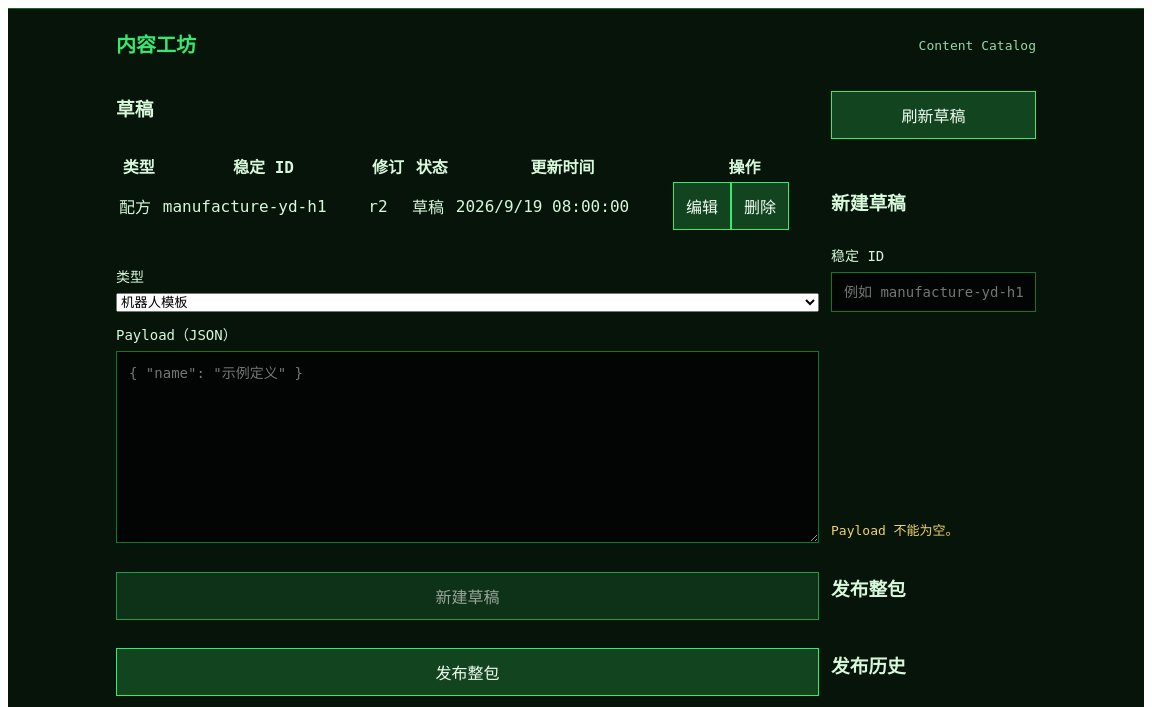
Test: ContentAdminPanel › deletes a draft with the DELETE method
This screenshot has width=1152, height=707.
Expected: the text "manufacture-yd-h1" is shown, [162,181,365,231]
Step 1. Click the button "删除" → (760, 206), box [731,182,789,230]
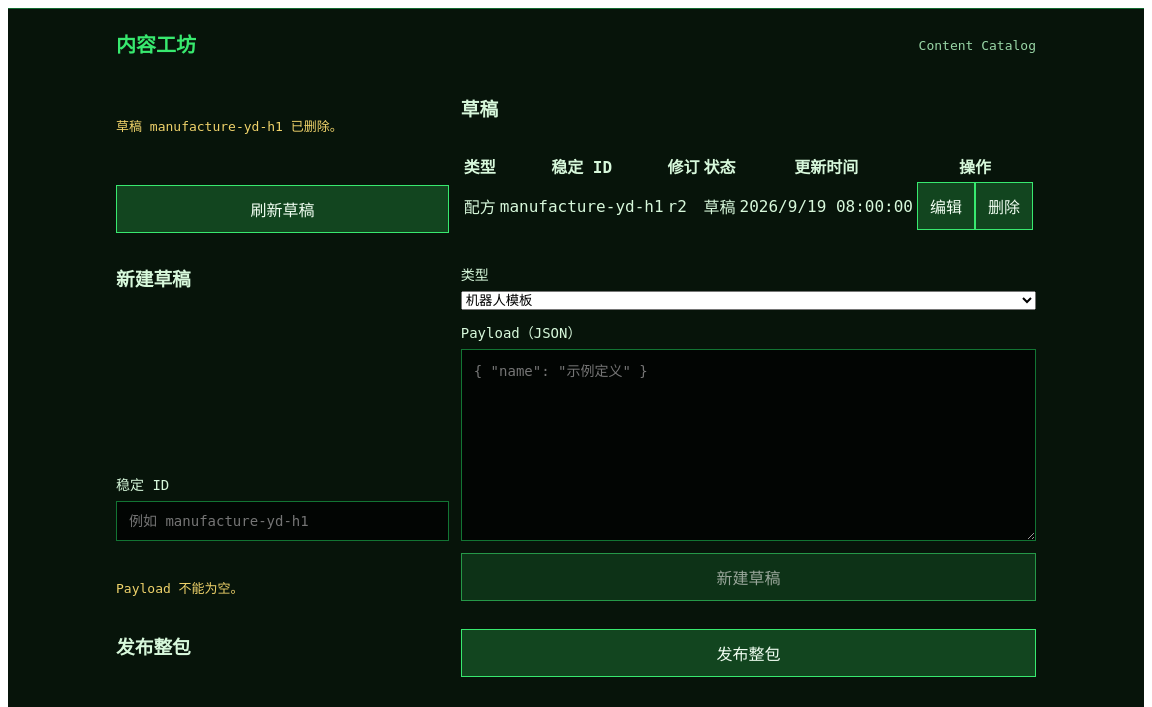
Expected: the text "草稿 manufacture-yd-h1 已删除。" is shown, [116,119,343,134]
